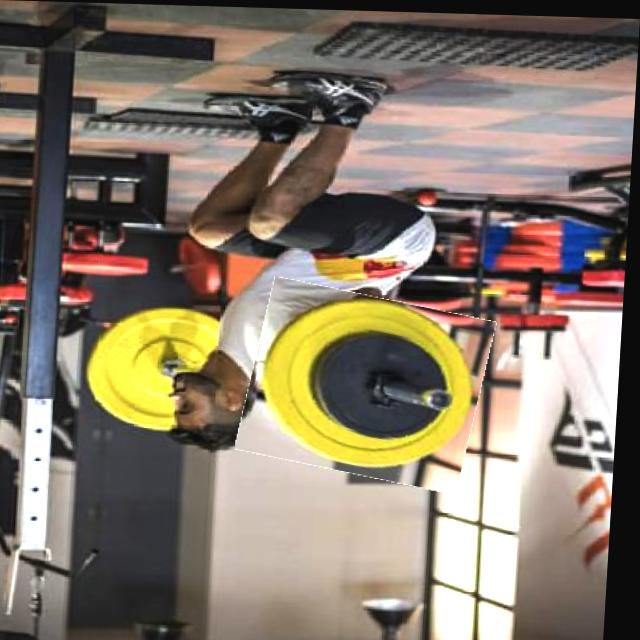barbell: (246, 284, 496, 484)
